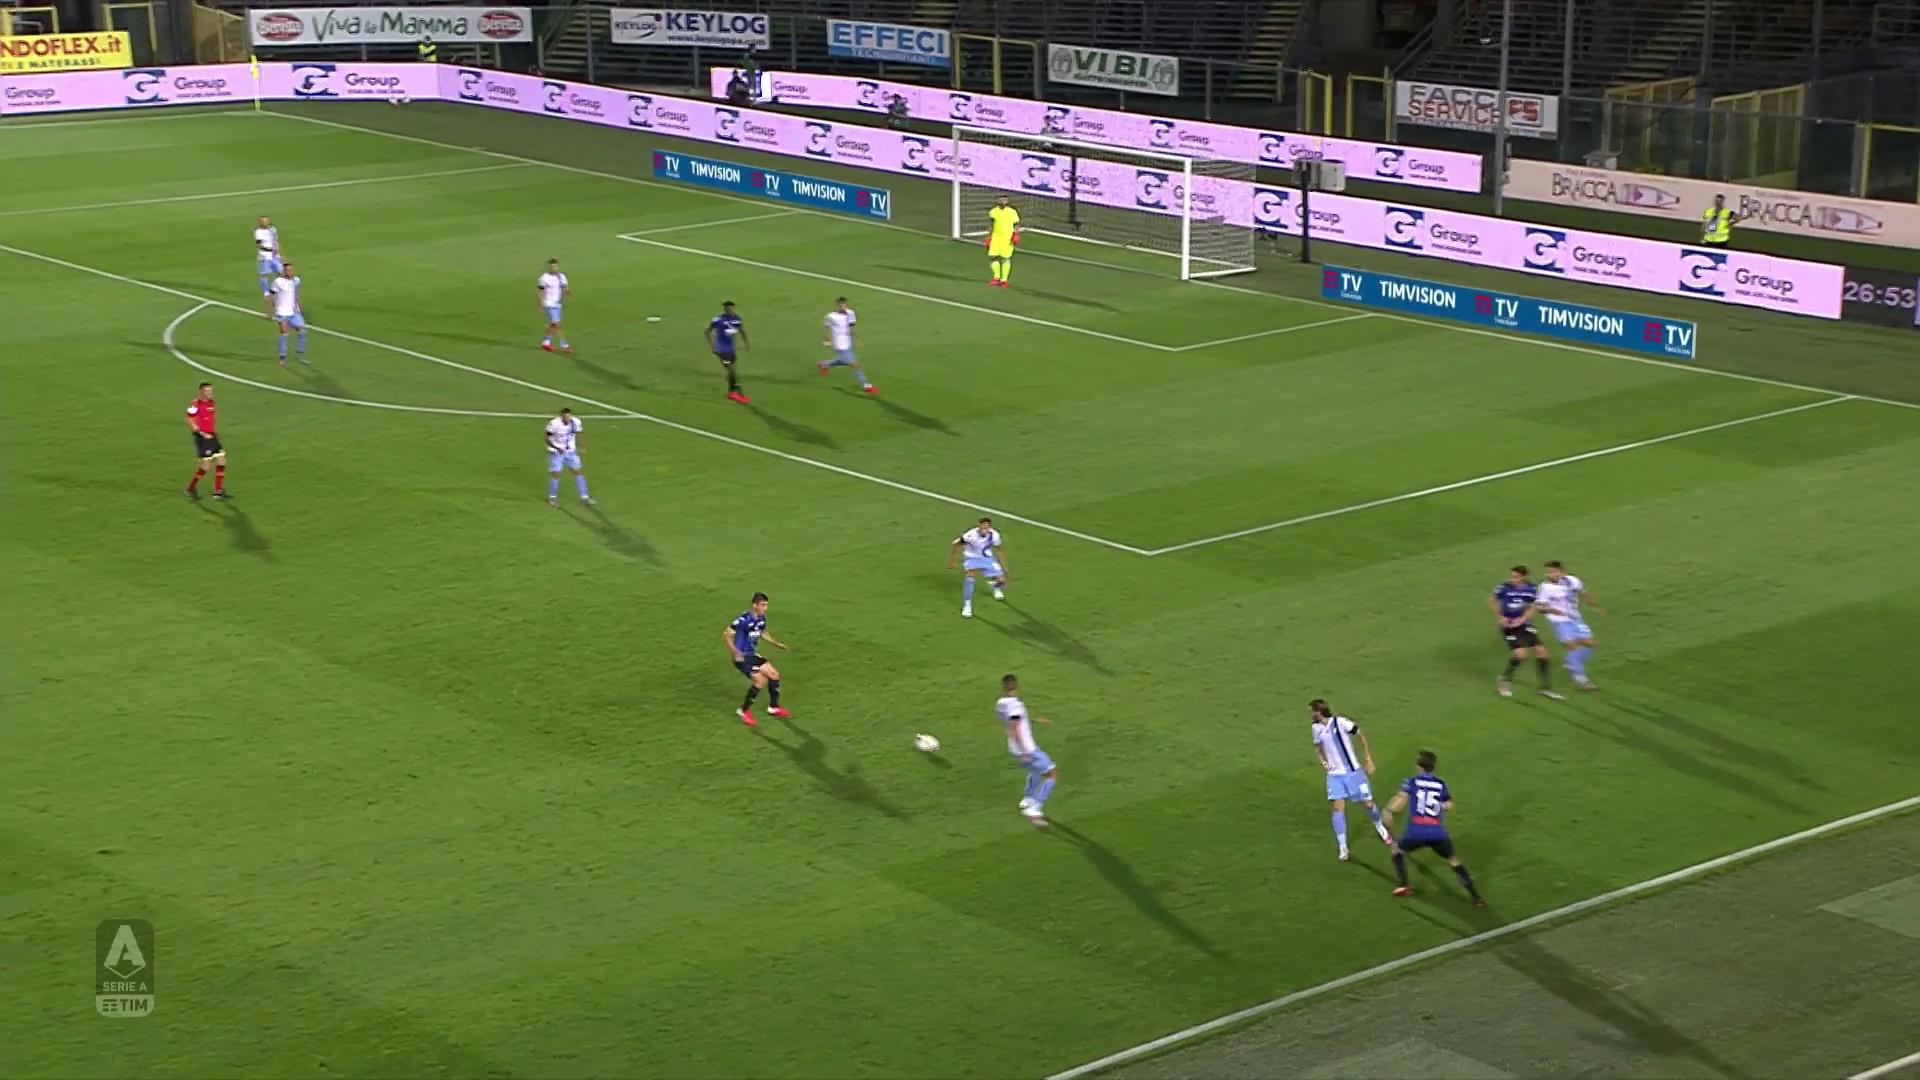ball: (911, 726, 947, 760)
goalkeeper: (980, 190, 1027, 290)
player: (1376, 744, 1489, 910), (1303, 694, 1393, 866), (1509, 557, 1611, 693), (1491, 560, 1567, 706), (992, 669, 1060, 830), (718, 589, 795, 729), (946, 511, 1015, 621), (814, 293, 883, 400), (538, 405, 599, 509), (702, 297, 759, 408), (261, 258, 314, 372), (249, 211, 305, 308), (533, 252, 582, 359)
referee: (180, 376, 240, 505)
